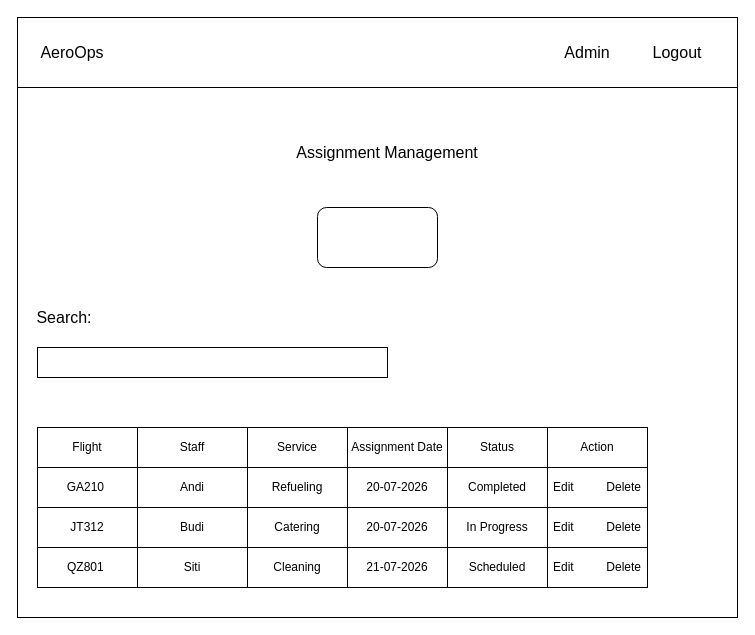
Image size: 755x635. Some labels were removed from this diagram. Here are the shapes that lost their labels. From the top down, the box of each, then its label:
(316, 206, 438, 268): Add Assignment
(36, 346, 388, 378): Search assignment...
